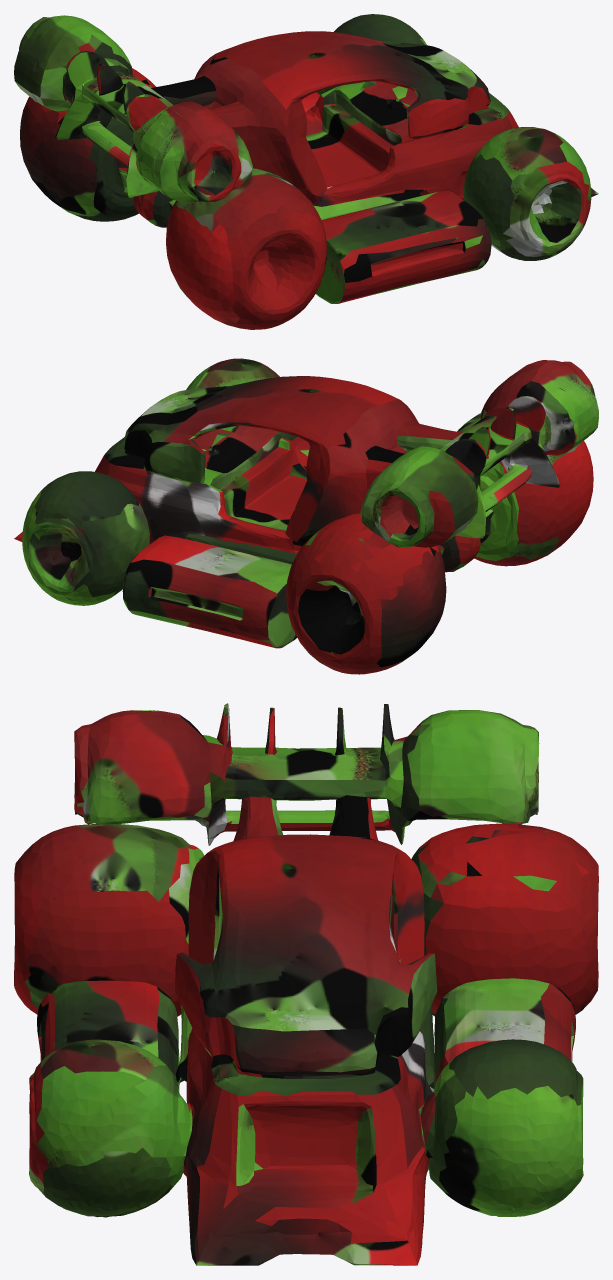
The model's file is sample.obj.
3 views of the same model, one above another, from view 1: azimuth 30°, elevation 25°; view 2: azimuth 150°, elevation 25°; view 3: azimuth 270°, elevation 25° (orthographic). The views are drawn at different scales.
Size of the model in its own units: 0.6362 by 0.275 by 0.508.
